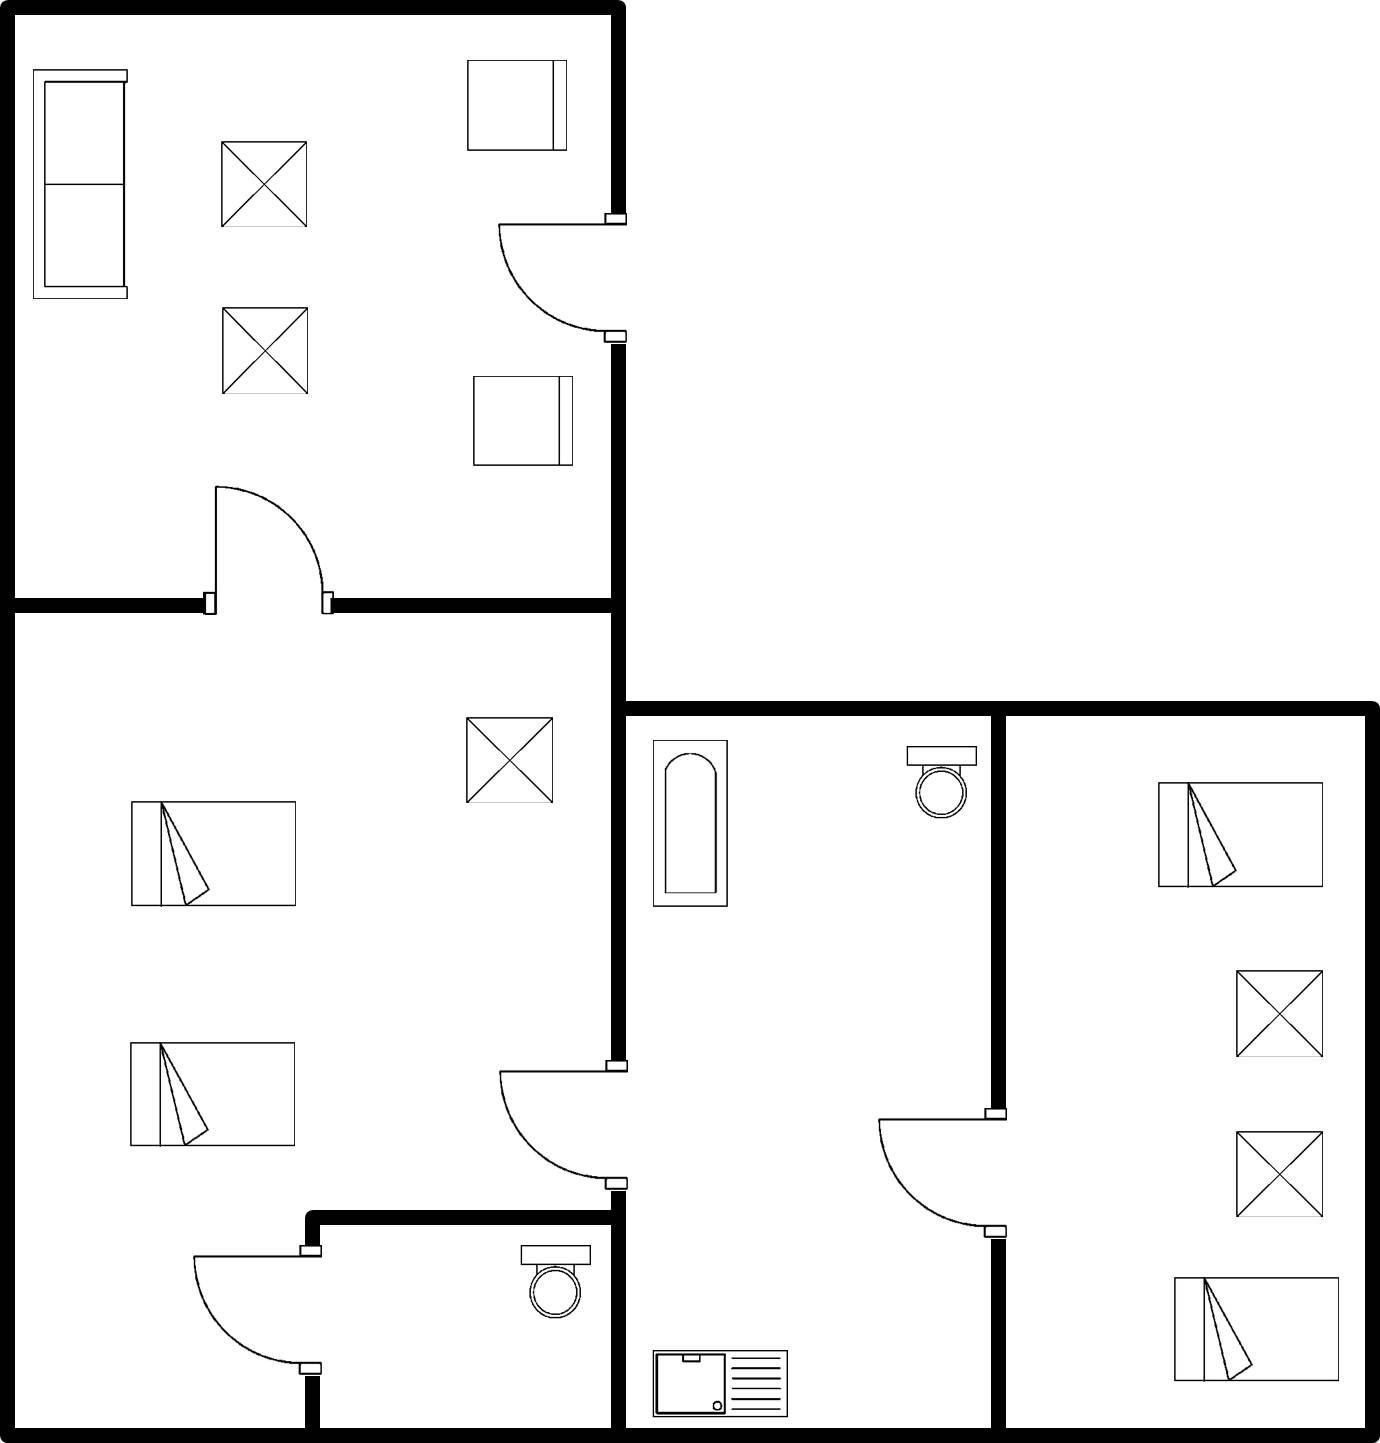bed: (118, 787, 304, 921), (119, 1032, 307, 1157)
coffee_table: (209, 132, 319, 238), (209, 298, 319, 405), (1225, 1117, 1331, 1229), (457, 708, 564, 815), (1226, 962, 1333, 1062)
large_sink: (897, 736, 984, 831), (508, 1238, 598, 1319)
large_sofa: (25, 62, 139, 308)
sink: (643, 1339, 805, 1428)
small_sofa: (456, 49, 580, 167), (463, 363, 583, 481)
tub: (640, 729, 740, 918)
